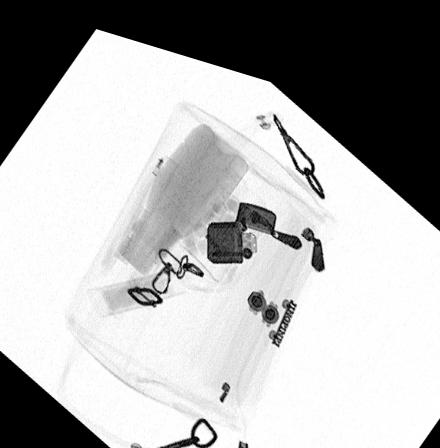Lighter: (206, 185, 278, 251)
